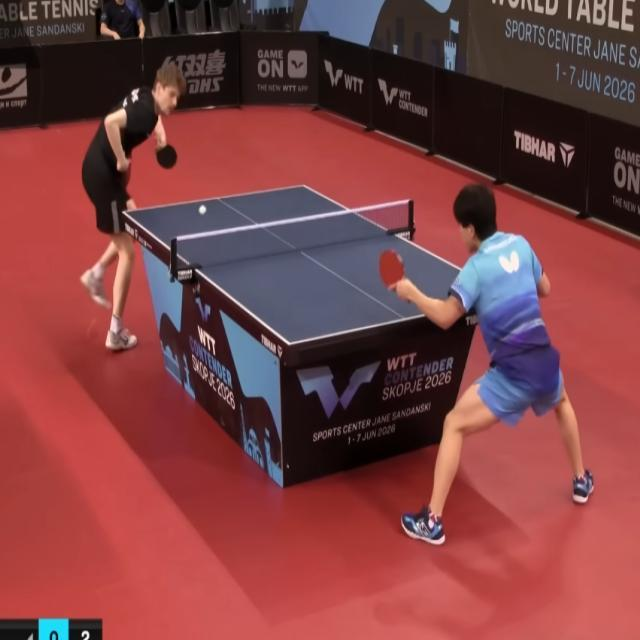TT Net: (168, 197, 417, 281)
TT Racket: (370, 242, 413, 297), (149, 137, 184, 174)
TT Table: (125, 184, 501, 346)
